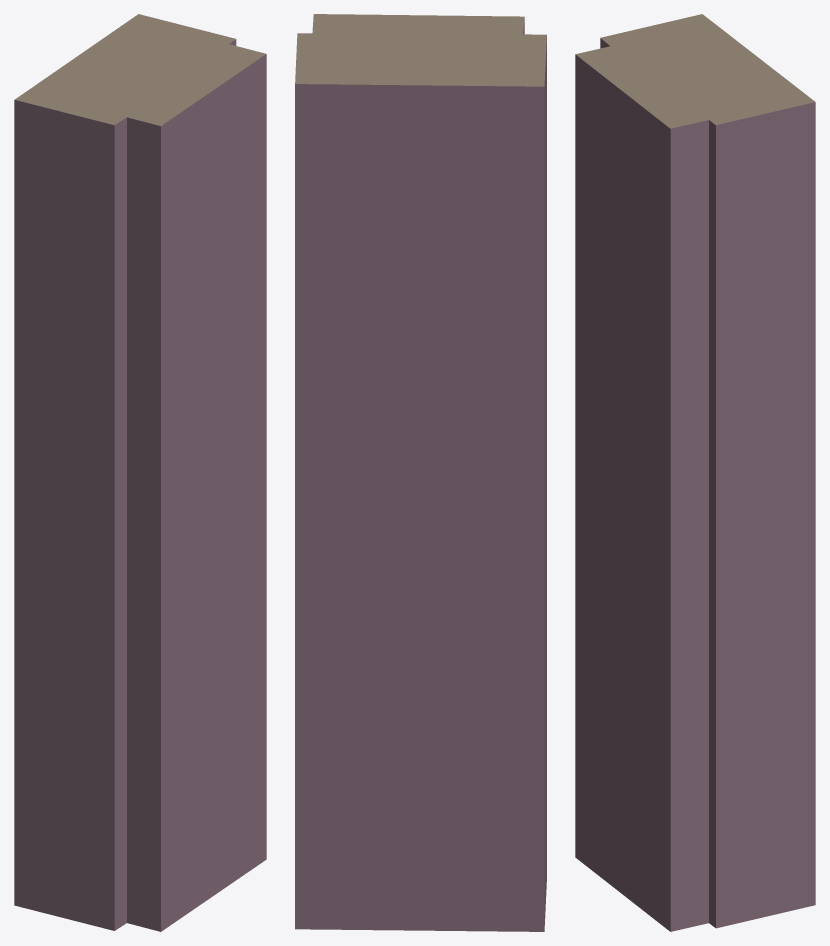
File: nyc-1090669-0.glb
The picture shows the model from 3 angles, left to right: view 1: azimuth 30°, elevation 25°; view 2: azimuth 150°, elevation 25°; view 3: azimuth 270°, elevation 25°; orthographic projection. The views are drawn at different scales.
Visible parts, largest first — view 1: nyc-1090669-0; view 2: nyc-1090669-0; view 3: nyc-1090669-0.
Boxes of the visible parts, x1,y1,x2,y2 form: nyc-1090669-0: (14,14,266,931); nyc-1090669-0: (295,14,546,931); nyc-1090669-0: (575,14,815,931).
Bounding box in the file's own units: 30.28 × 98.76 × 26.79.
